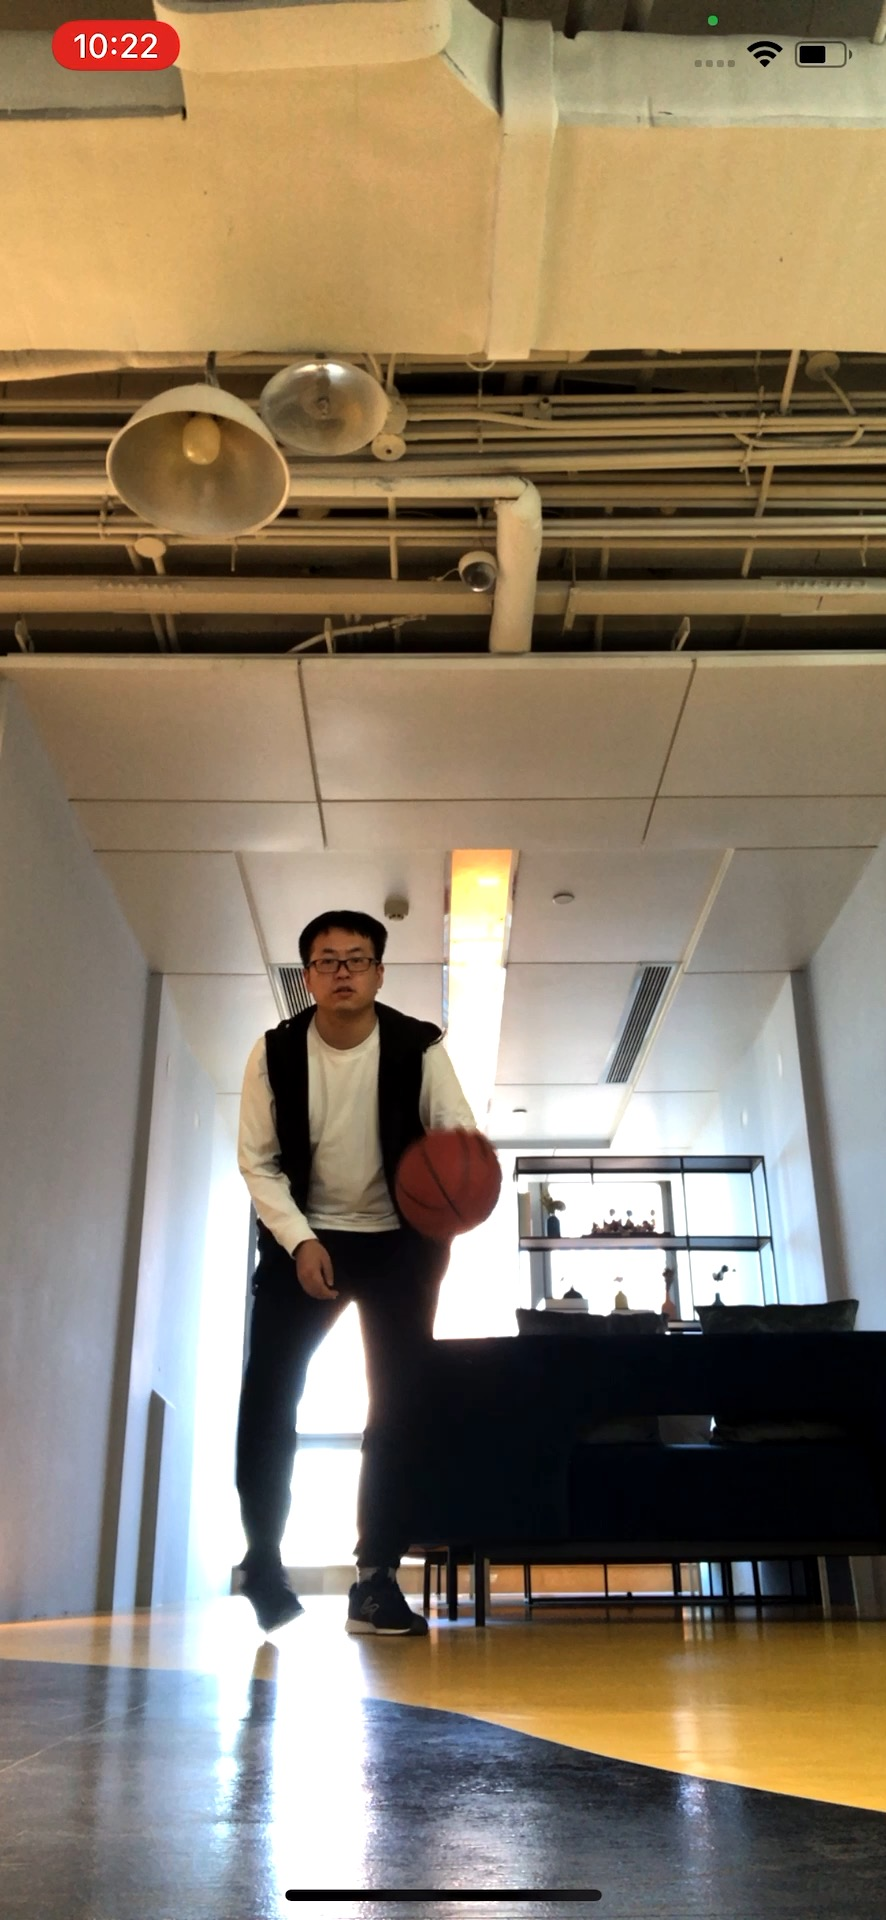ball: (394, 1127, 504, 1236)
